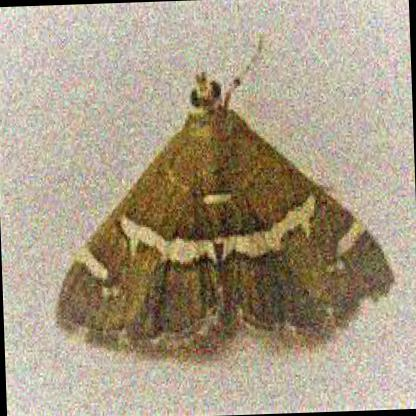Leaf Webber: (51, 72, 394, 358)
